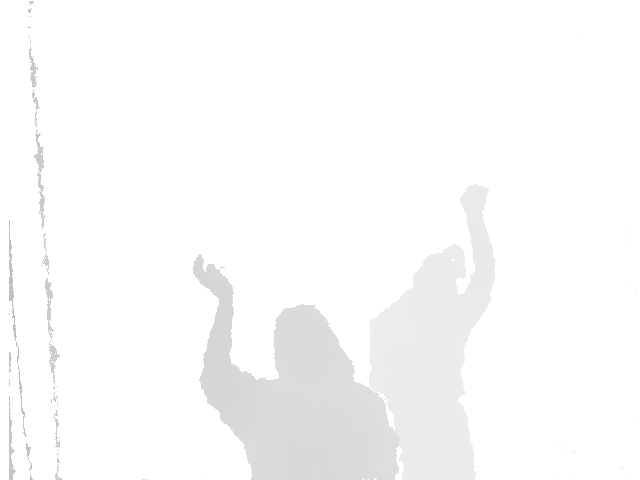hand: (192, 255, 233, 302), (459, 186, 487, 215)
head: (273, 305, 342, 381), (411, 246, 466, 305)
person: (192, 255, 401, 480), (368, 185, 496, 480)
